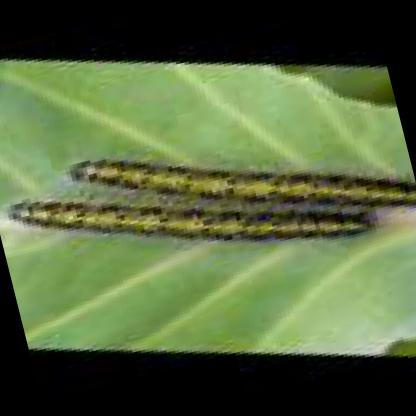pieris: (2, 199, 378, 245), (72, 159, 416, 206)
